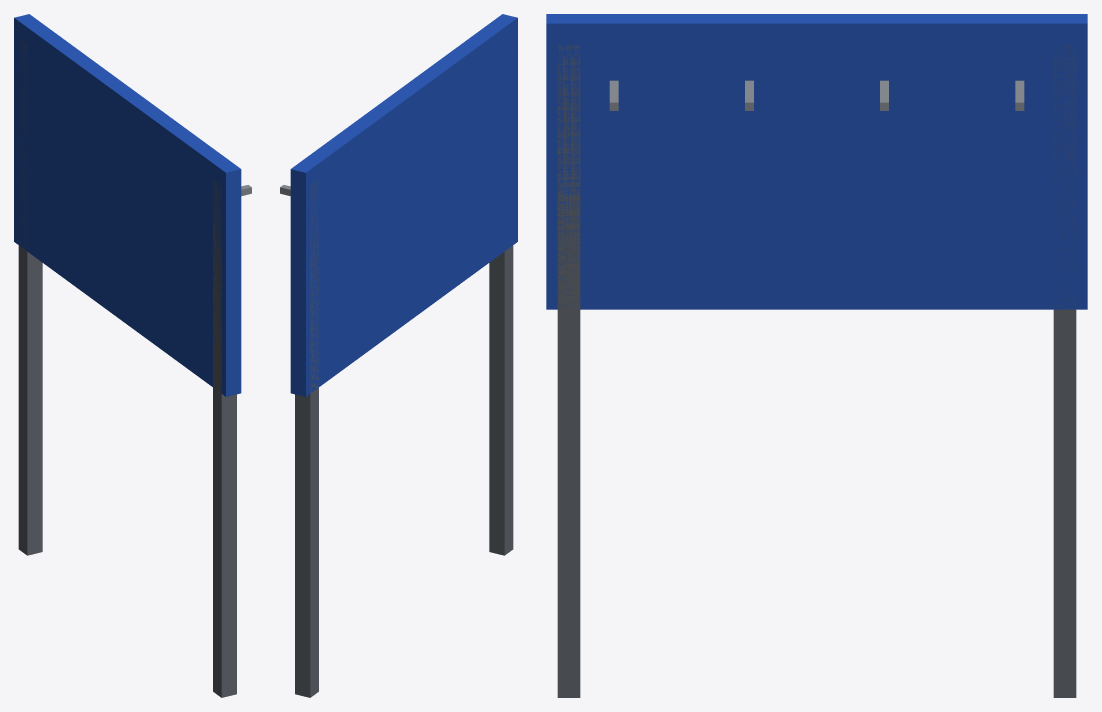
File: ENV_ToolRack.fbx
3 views of the same model, side by side, from view 1: azimuth 30°, elevation 25°; view 2: azimuth 150°, elevation 25°; view 3: azimuth 270°, elevation 25° (orthographic). The views are drawn at different scales.
Visible parts, largest first — view 1: ENV_ToolRack, Post, Post.001; view 2: ENV_ToolRack, Post.001, Post; view 3: ENV_ToolRack, Post, Post.001.
Boxes of the visible parts, x1,y1,x2,y2 form: ENV_ToolRack: (14,14,241,396); Post: (213,180,236,697); Post.001: (18,39,42,555); ENV_ToolRack: (290,14,517,396); Post.001: (295,180,318,697); Post: (489,40,513,555); ENV_ToolRack: (546,14,1087,309); Post: (557,44,580,697); Post.001: (1053,44,1076,697).
Size of the model in its own units: 0.165 by 1.65 by 1.2.
Materials: 2 (2 with a texture image).
